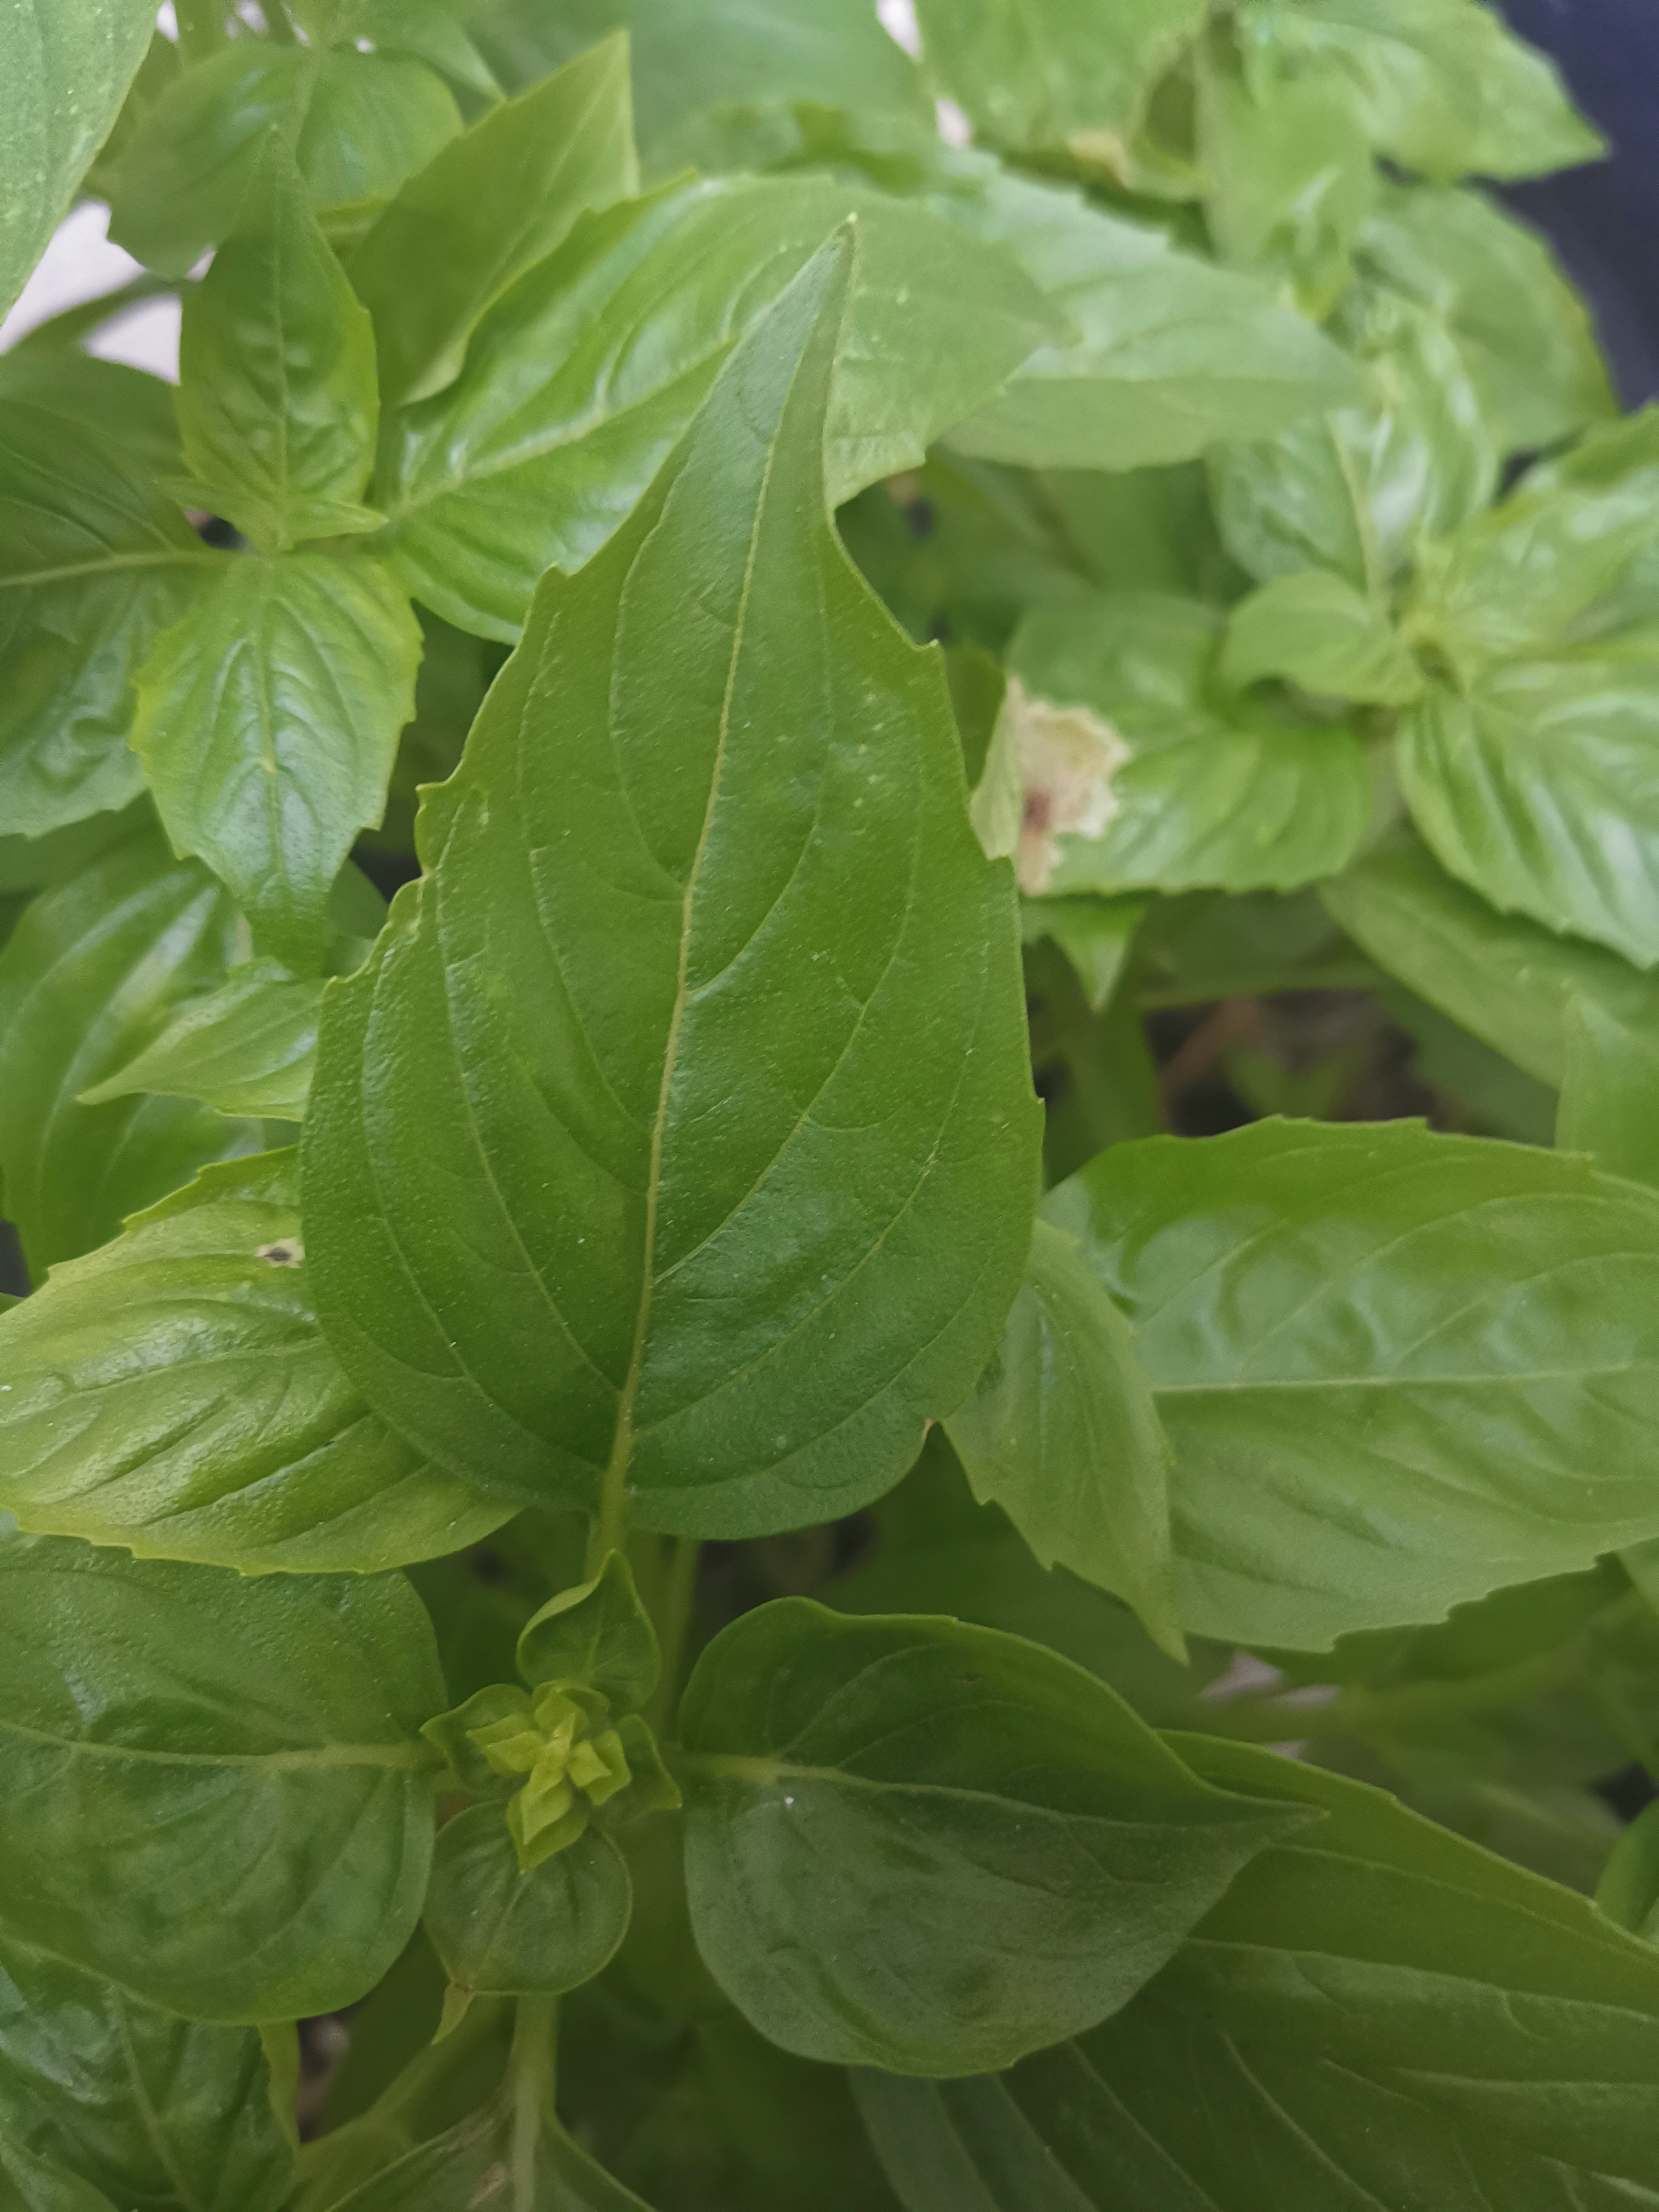Basil_healthy: (300, 214, 1039, 1541), (376, 160, 1070, 679), (1014, 1116, 1654, 1653), (662, 1639, 1307, 2106), (0, 1127, 613, 1597), (0, 1486, 432, 2022), (784, 131, 1380, 469), (945, 590, 1359, 925), (101, 531, 422, 942)
